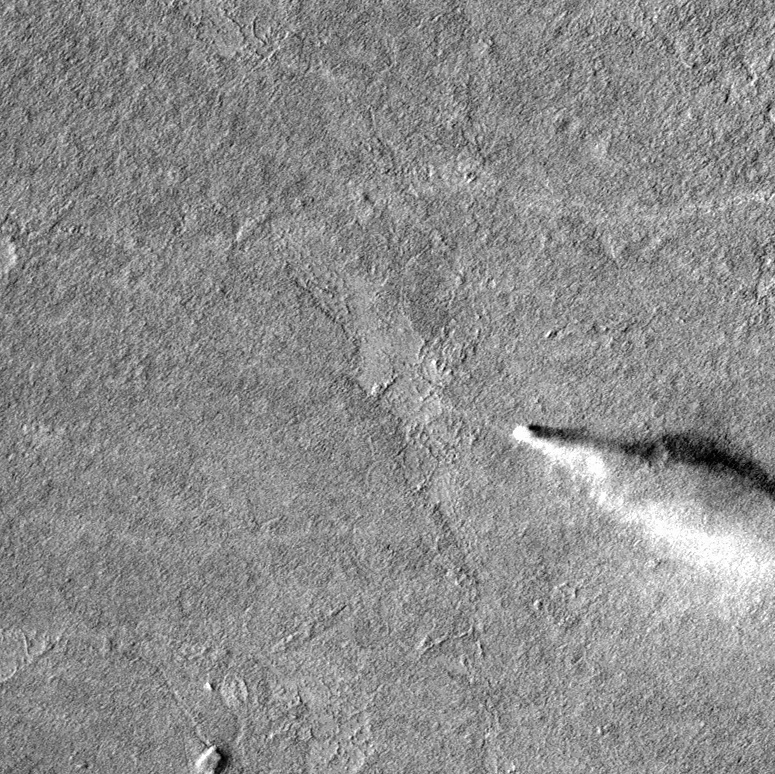dust_devil: (510, 421, 775, 600)
